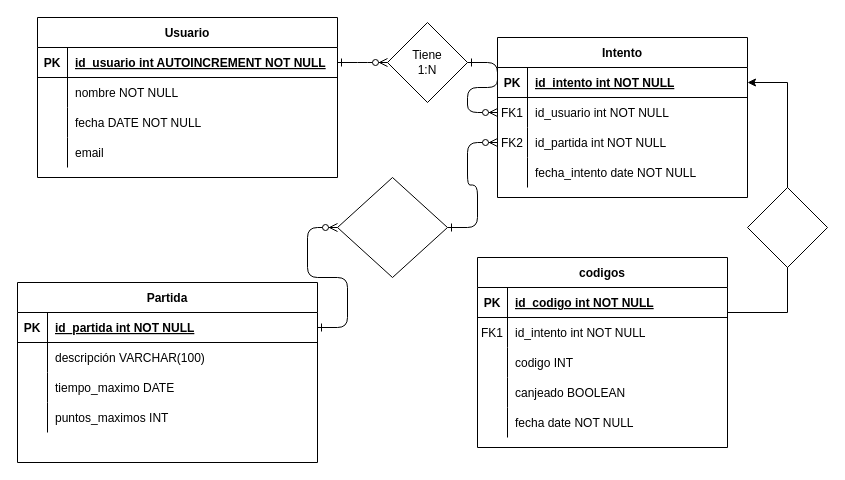
Image size: 845x480. Some labels were removed from this diagram. Each missing label, with the centre of its shape:
"Gana o pierde 1:1" goes at pixel 392 227.
"genera 1:N" goes at pixel 787 227.
